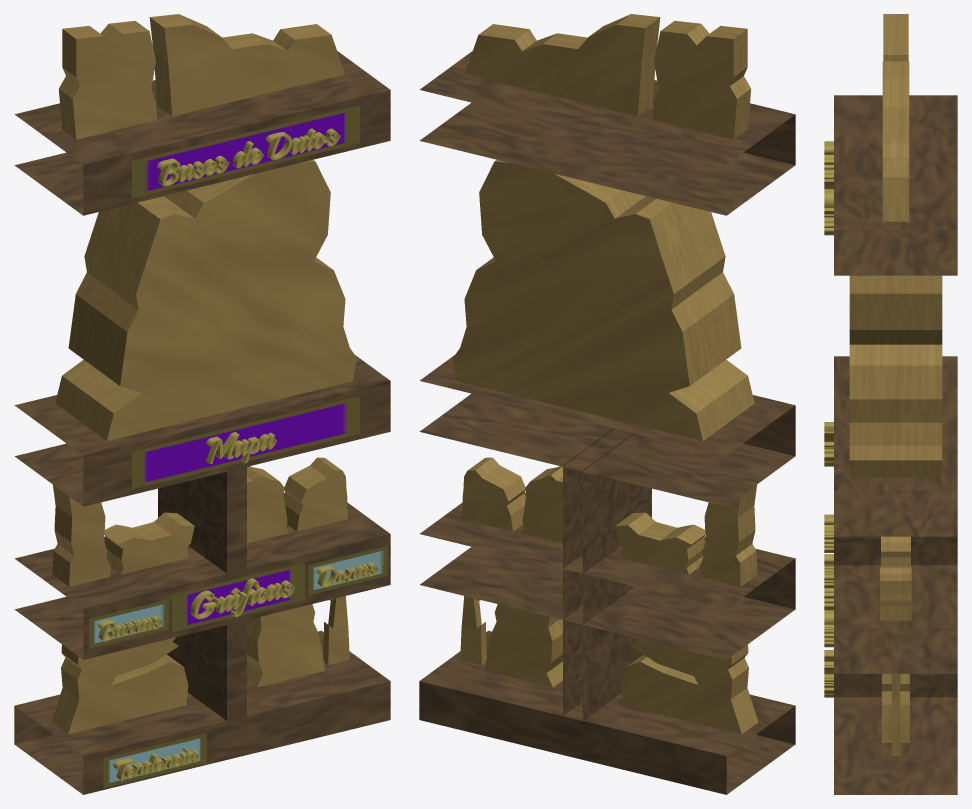
Rendered from rack_a.glb.
The picture shows the model from 3 angles, left to right: view 1: azimuth 30°, elevation 25°; view 2: azimuth 150°, elevation 25°; view 3: azimuth 270°, elevation 25°; orthographic projection. The views are drawn at different scales.
Visible parts, largest first — view 1: artifact.graph.tendency.1.2, rack.a.shelf.1, TextPlate1.016, rack.text.databases, rack.text.graphs, rack.text.map, rack.text.graphs.tendency, rack.text.graphs.bars, rack.text.graphs.donuts; view 2: artifact.graph.tendency.1.2, rack.a.shelf.1; view 3: rack.a.shelf.1, artifact.graph.tendency.1.2, rack.text.databases, rack.text.graphs, rack.text.graphs.tendency, rack.text.map, rack.text.graphs.bars, rack.text.graphs.donuts.
Boxes of the visible parts, left/top/right/bottom form: artifact.graph.tendency.1.2: left=51, top=14, right=357, bottom=734; rack.a.shelf.1: left=14, top=51, right=390, bottom=794; TextPlate1.016: left=89, top=105, right=388, bottom=787; rack.text.databases: left=157, top=128, right=340, bottom=186; rack.text.graphs: left=190, top=578, right=295, bottom=619; rack.text.map: left=206, top=432, right=276, bottom=463; rack.text.graphs.tendency: left=113, top=747, right=199, bottom=780; rack.text.graphs.bars: left=97, top=615, right=162, bottom=641; rack.text.graphs.donuts: left=316, top=562, right=378, bottom=587; artifact.graph.tendency.1.2: left=452, top=14, right=758, bottom=734; rack.a.shelf.1: left=419, top=51, right=795, bottom=794; rack.a.shelf.1: left=834, top=95, right=957, bottom=794; artifact.graph.tendency.1.2: left=849, top=14, right=942, bottom=756; rack.text.databases: left=824, top=141, right=833, bottom=235; rack.text.graphs: left=824, top=554, right=833, bottom=610; rack.text.graphs.tendency: left=824, top=650, right=833, bottom=697; rack.text.map: left=824, top=422, right=833, bottom=466; rack.text.graphs.bars: left=824, top=514, right=833, bottom=552; rack.text.graphs.donuts: left=824, top=610, right=833, bottom=647.
Size of the model in its own units: 5.14 by 11.69 by 2.16.
Materials: 4 (3 with a texture image).
